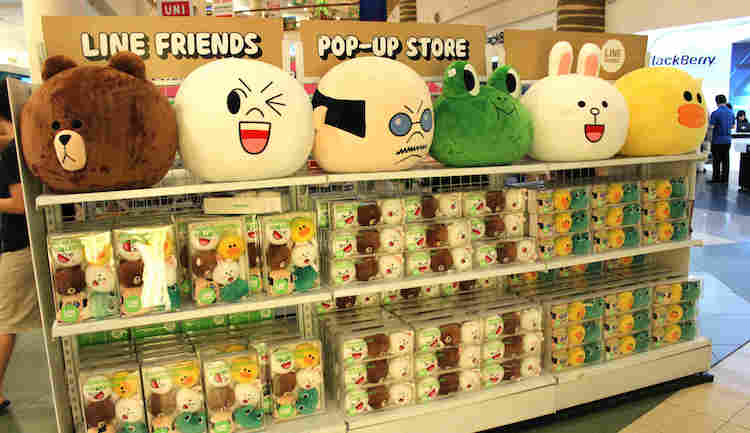line_brown: (17, 47, 184, 202)
